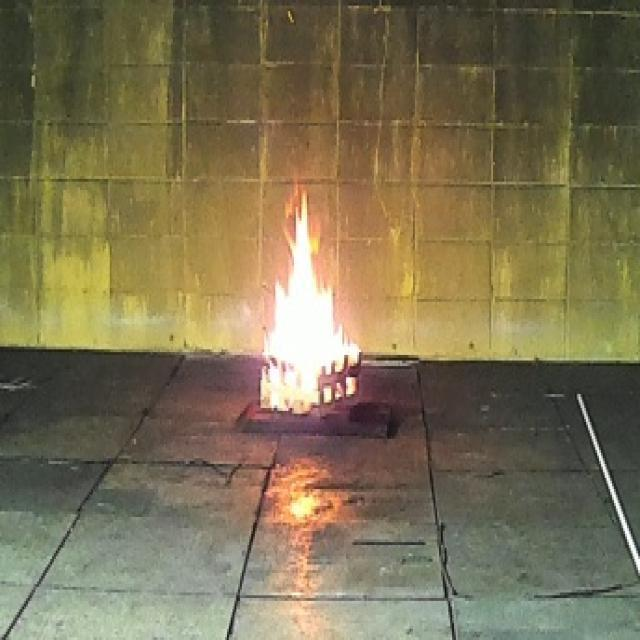Fire: (260, 191, 362, 415)
